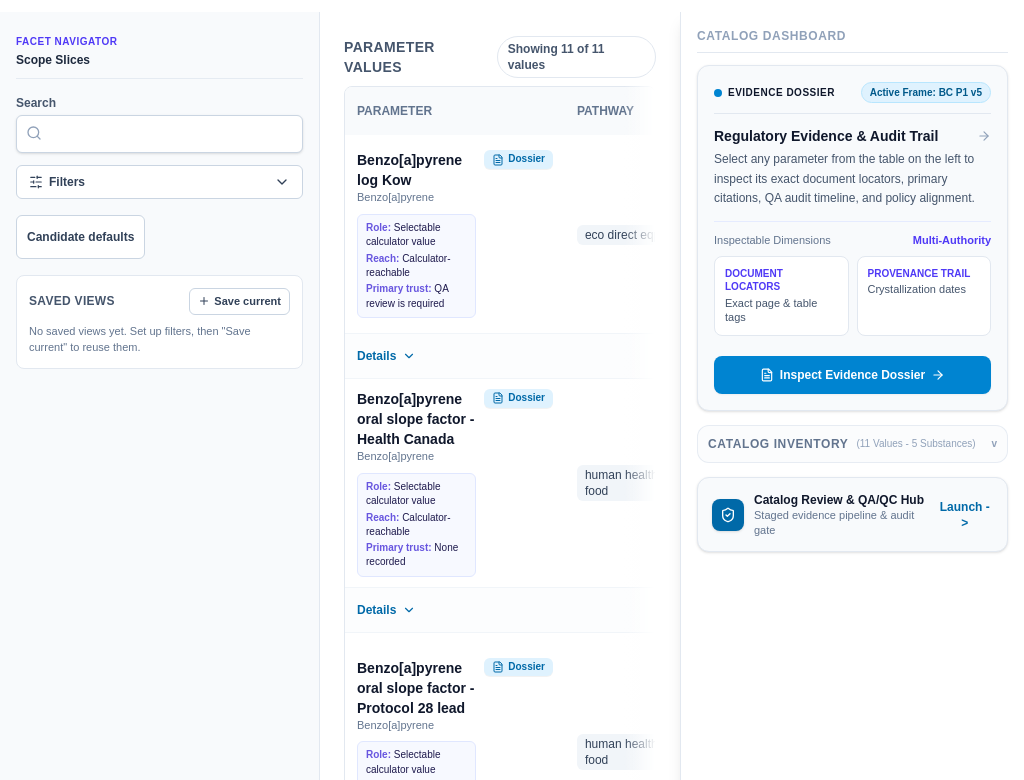
Test case: EvidenceLibrary panel rebalance › puts the filter grid in the left panel and the status dashboard in the right panel at rest
Expected: the element with test id "evidence-library-filters" is shown, [16,95,303,259]
Click the button with test id "evidence-library-filter-button" at (67, 182), box [16,165,303,199]
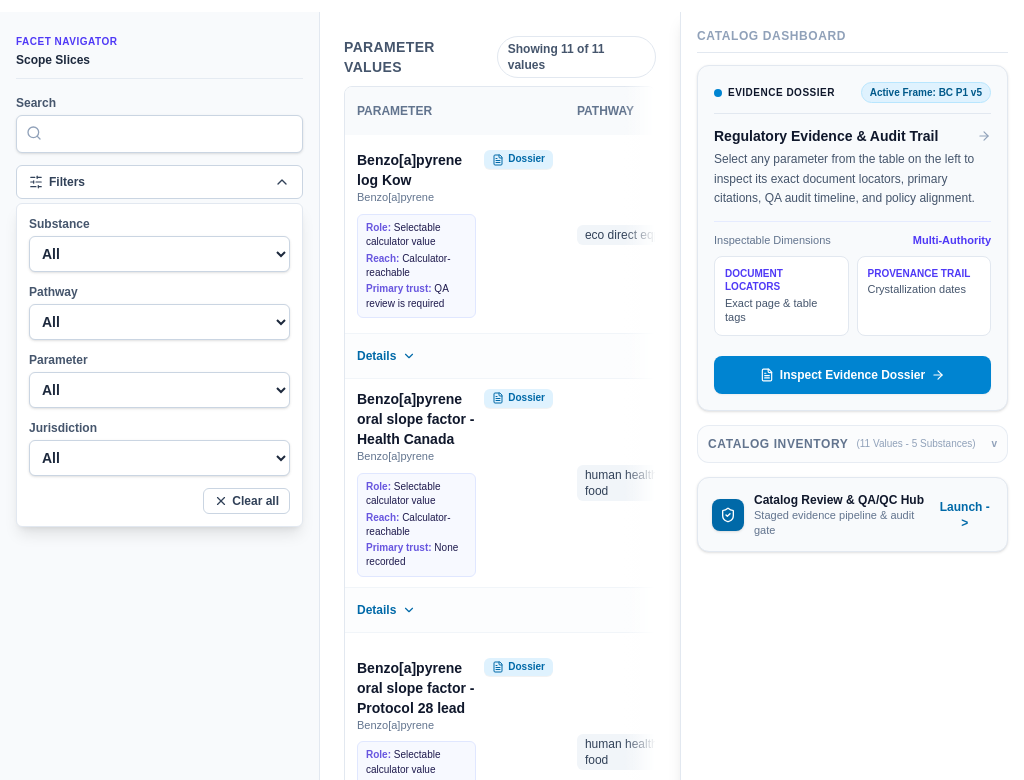
Expected: the heading with test id "evidence-library-right-mode" reads "Catalog Dashboard", [697,29,846,43]
Expected: the dropdown labelled "Pathway" is shown, [29,304,290,340]
